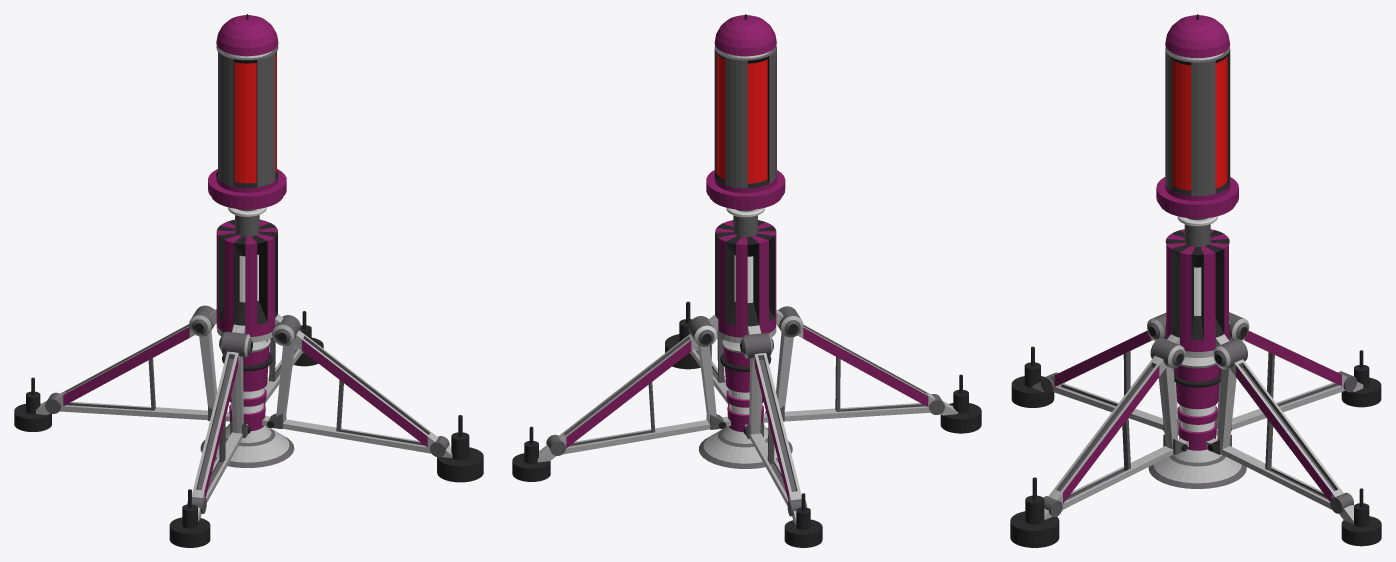
File: Radar_Jammer_Large.fbx
The picture shows the model from 3 angles, left to right: view 1: azimuth 30°, elevation 25°; view 2: azimuth 150°, elevation 25°; view 3: azimuth 270°, elevation 25°; orthographic projection. The views are drawn at different scales.
Parts seen in each view (by area): view 1: Cylinder, Cylinder.002, Cylinder.003, Cylinder.004, Cylinder.012, Cylinder.011, Cylinder.009; view 2: Cylinder, Cylinder.003, Cylinder.004, Cylinder.001, Cylinder.002, Cylinder.009, Cylinder.010, Cylinder.012; view 3: Cylinder, Cylinder.002, Cylinder.001, Cylinder.003, Cylinder.004, Cylinder.010, Cylinder.011, Cylinder.009.
Part boxes in pixels (<box>): Cylinder: <box>36,14,452,521</box>; Cylinder.002: <box>437,415,483,482</box>; Cylinder.003: <box>169,489,210,547</box>; Cylinder.004: <box>14,377,51,431</box>; Cylinder.012: <box>219,331,252,357</box>; Cylinder.011: <box>272,315,300,345</box>; Cylinder.009: <box>189,305,214,336</box>; Cylinder: <box>537,14,958,524</box>; Cylinder.003: <box>940,374,981,433</box>; Cylinder.004: <box>784,493,822,547</box>; Cylinder.001: <box>512,426,550,481</box>; Cylinder.002: <box>665,301,711,369</box>; Cylinder.009: <box>740,333,773,358</box>; Cylinder.010: <box>688,316,717,346</box>; Cylinder.012: <box>777,306,803,337</box>; Cylinder: <box>1032,14,1363,524</box>; Cylinder.002: <box>1010,477,1059,547</box>; Cylinder.001: <box>1341,488,1381,546</box>; Cylinder.003: <box>1011,346,1054,407</box>; Cylinder.004: <box>1341,350,1381,407</box>; Cylinder.010: <box>1213,338,1247,369</box>; Cylinder.011: <box>1150,338,1185,368</box>; Cylinder.009: <box>1229,312,1249,340</box>.
Bounding box in the file's own units: 8.89 × 11.93 × 8.84.
